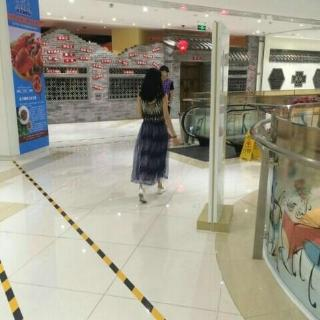vest: (130, 91, 170, 186)
